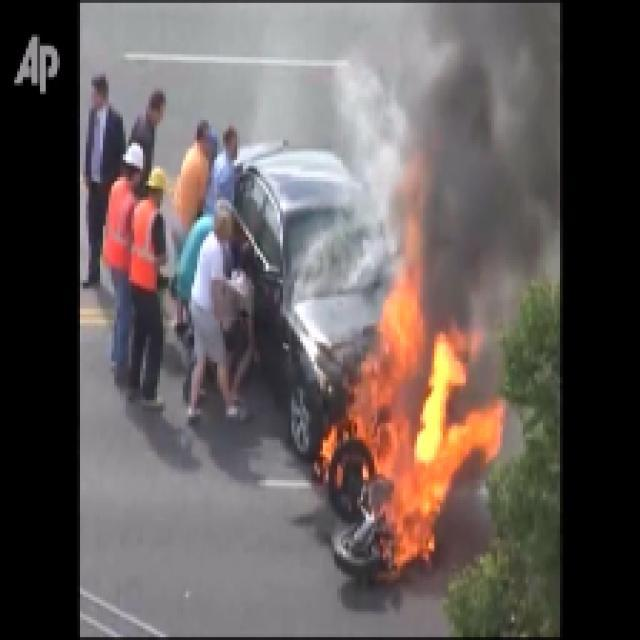Fire: (337, 174, 514, 592)
Smoke: (360, 8, 557, 320)
